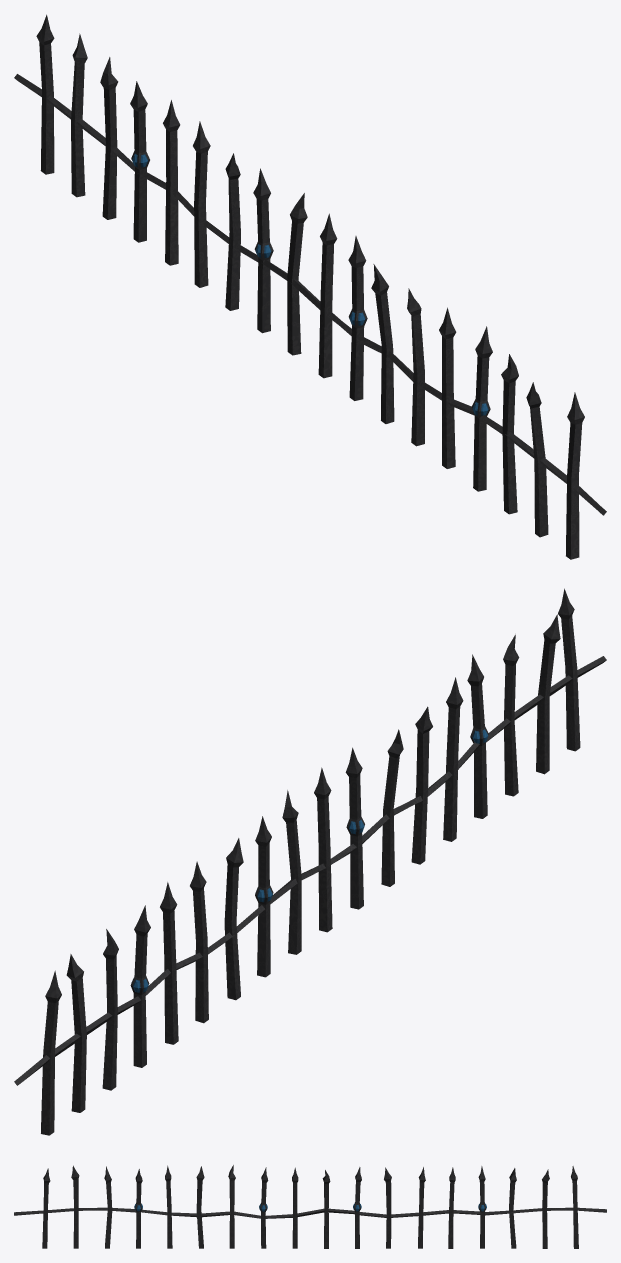
File: SpikeFenceA.dae
3 views of the same model, one above another, from view 1: azimuth 30°, elevation 25°; view 2: azimuth 150°, elevation 25°; view 3: azimuth 270°, elevation 25° (orthographic). The views are drawn at different scales.
Visible parts, largest first — view 1: SpikeFenceA; view 2: SpikeFenceA; view 3: SpikeFenceA.
Part boxes in pixels (<box>): SpikeFenceA: <box>14,14,606,559</box>; SpikeFenceA: <box>14,588,606,1135</box>; SpikeFenceA: <box>14,1165,606,1248</box>.
Size of what is drawn, in the model's own units: 50.3 by 289 by 1898.
